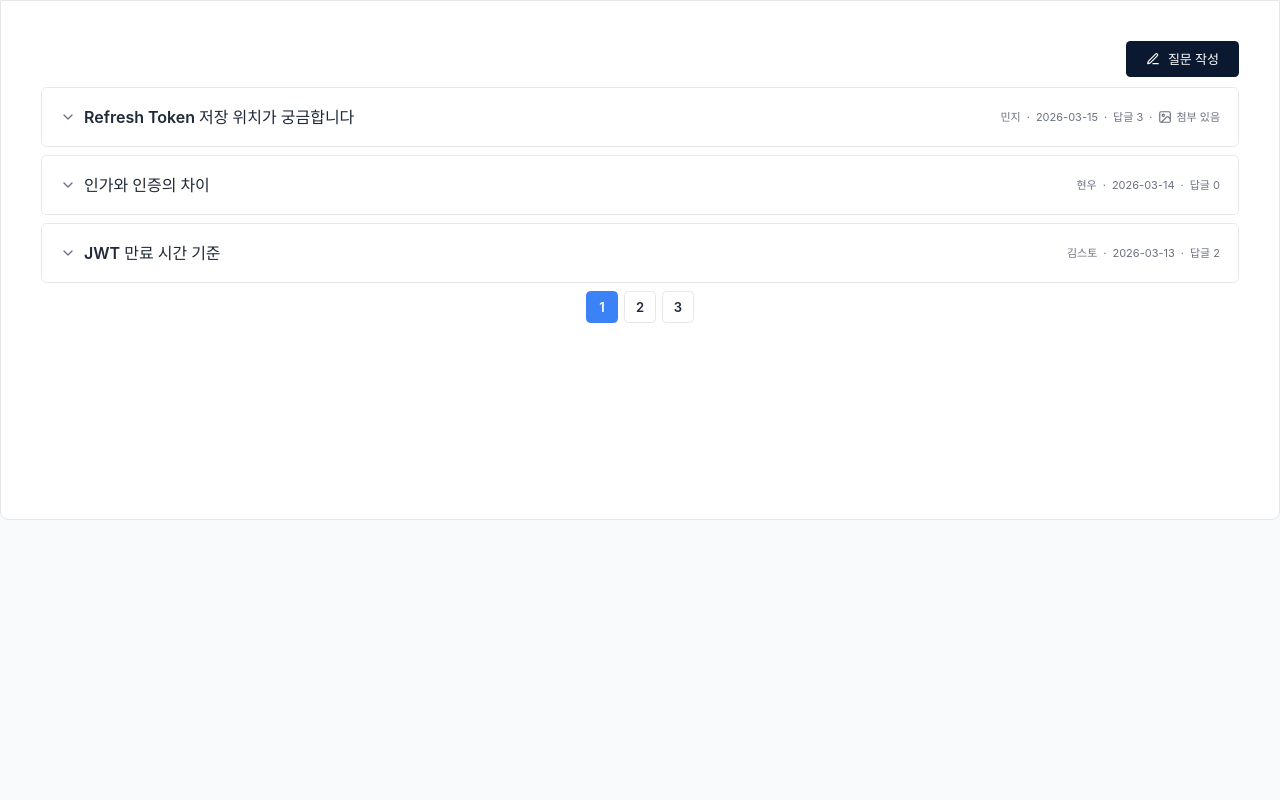
Scenario: QuestionsPage › 질문을 작성해 목록 최상단에 추가한다
The width and height of the screenshot is (1280, 800).
Step 1. Click the button "질문 작성" → (1182, 59), box x1=1126 y1=41 x2=1239 y2=77
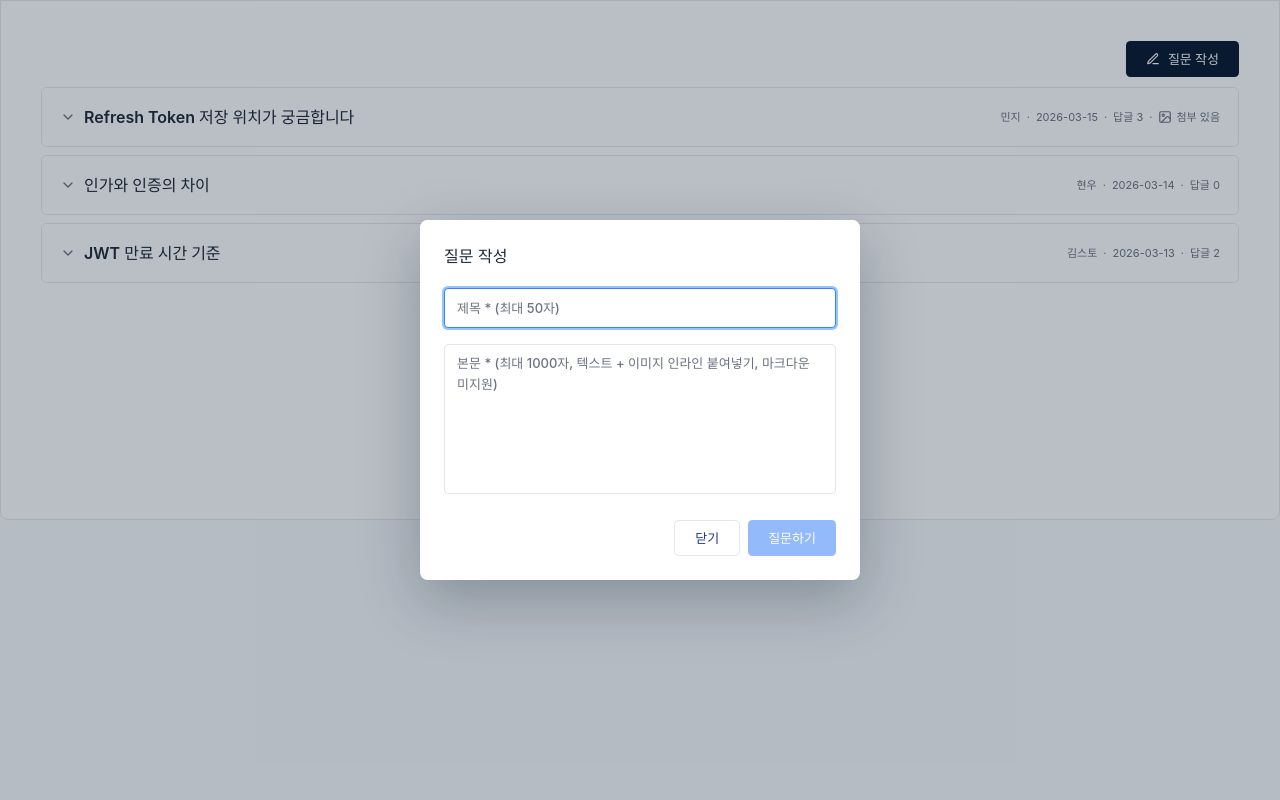
Check: the dialog "질문 작성" is shown, box x1=420 y1=220 x2=860 y2=580
Check: the button "질문하기" is disabled, box x1=748 y1=520 x2=836 y2=556
Step 2. Type "토큰 저장 정책이 궁금합니다" into the field named "질문 제목" → (640, 308), box x1=444 y1=288 x2=836 y2=328
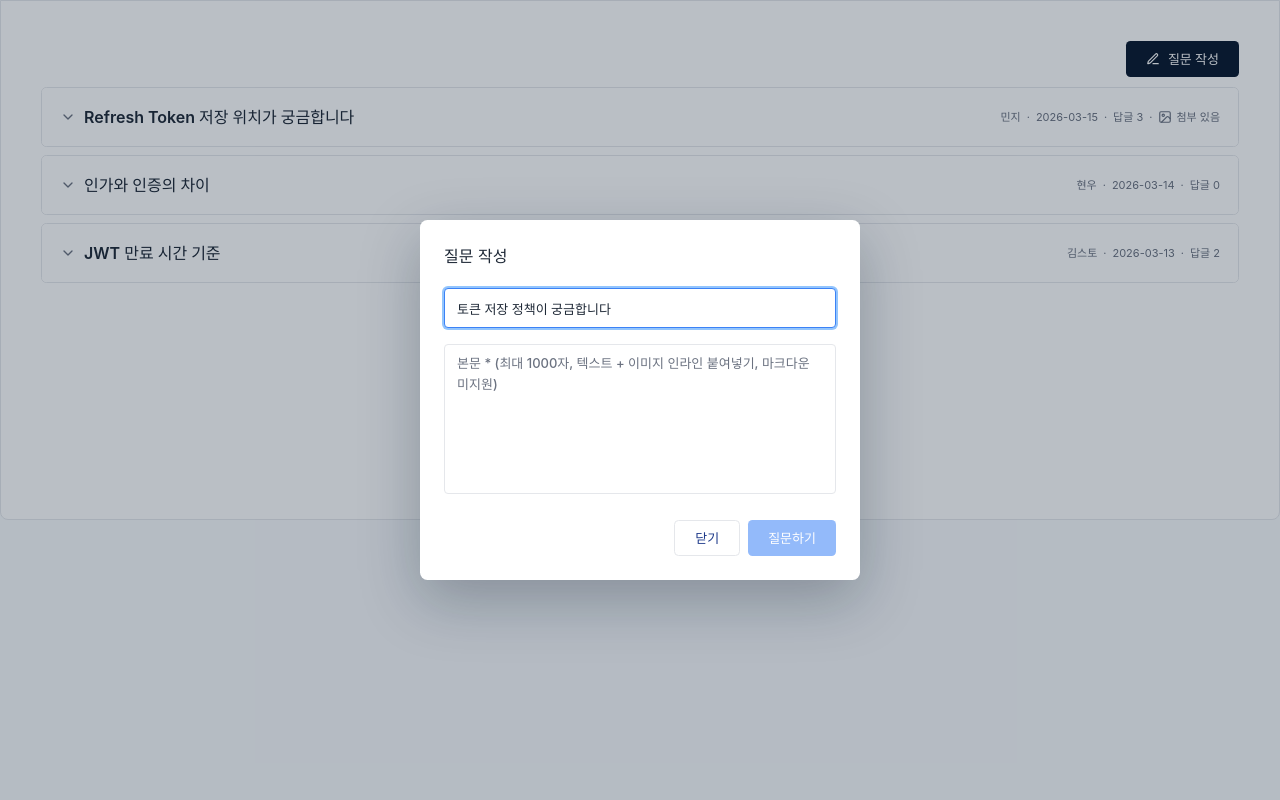
Step 3. Type "Refresh Token 저장 정책을 어떻게 정하면 좋을까요?" into the text box named "질문 본문" → (640, 419), box x1=444 y1=344 x2=836 y2=494
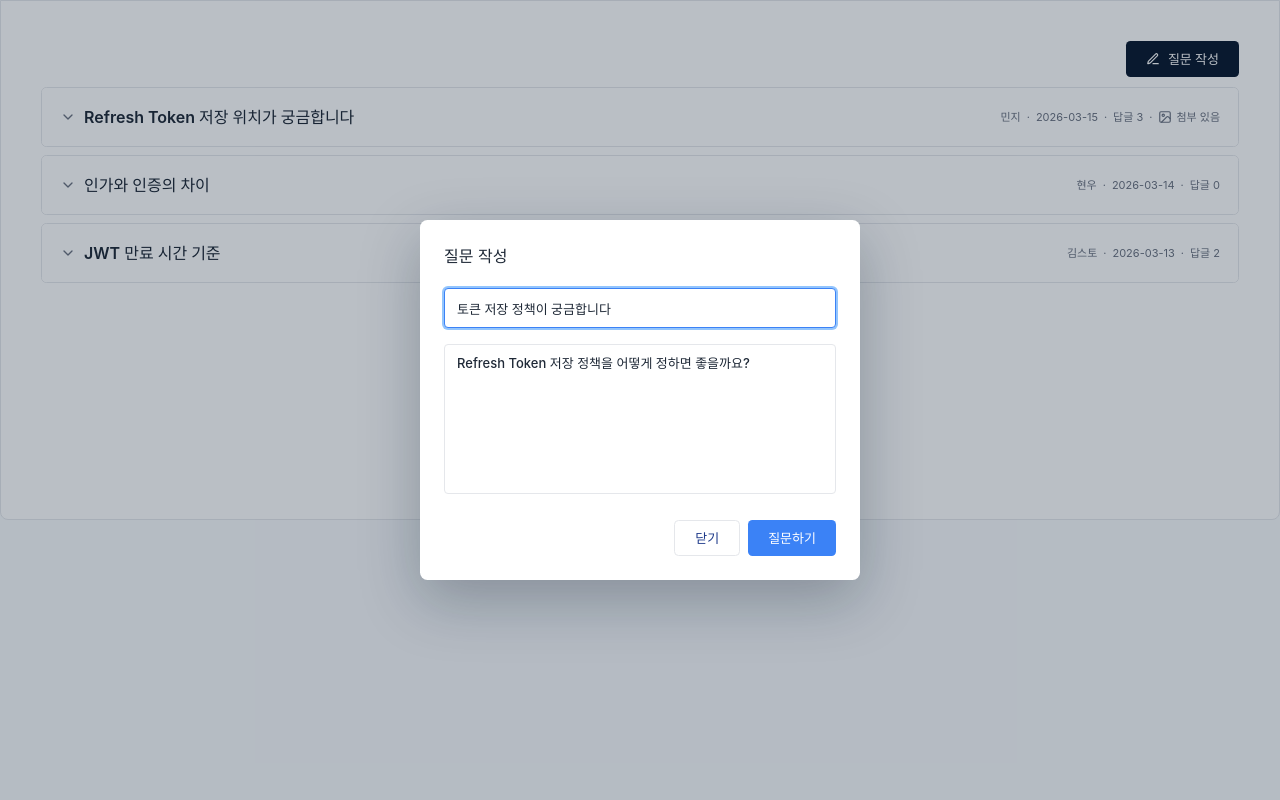
Check: the button "질문하기" is enabled
Step 4. Click the button "질문하기" → (792, 538), box x1=748 y1=520 x2=836 y2=556
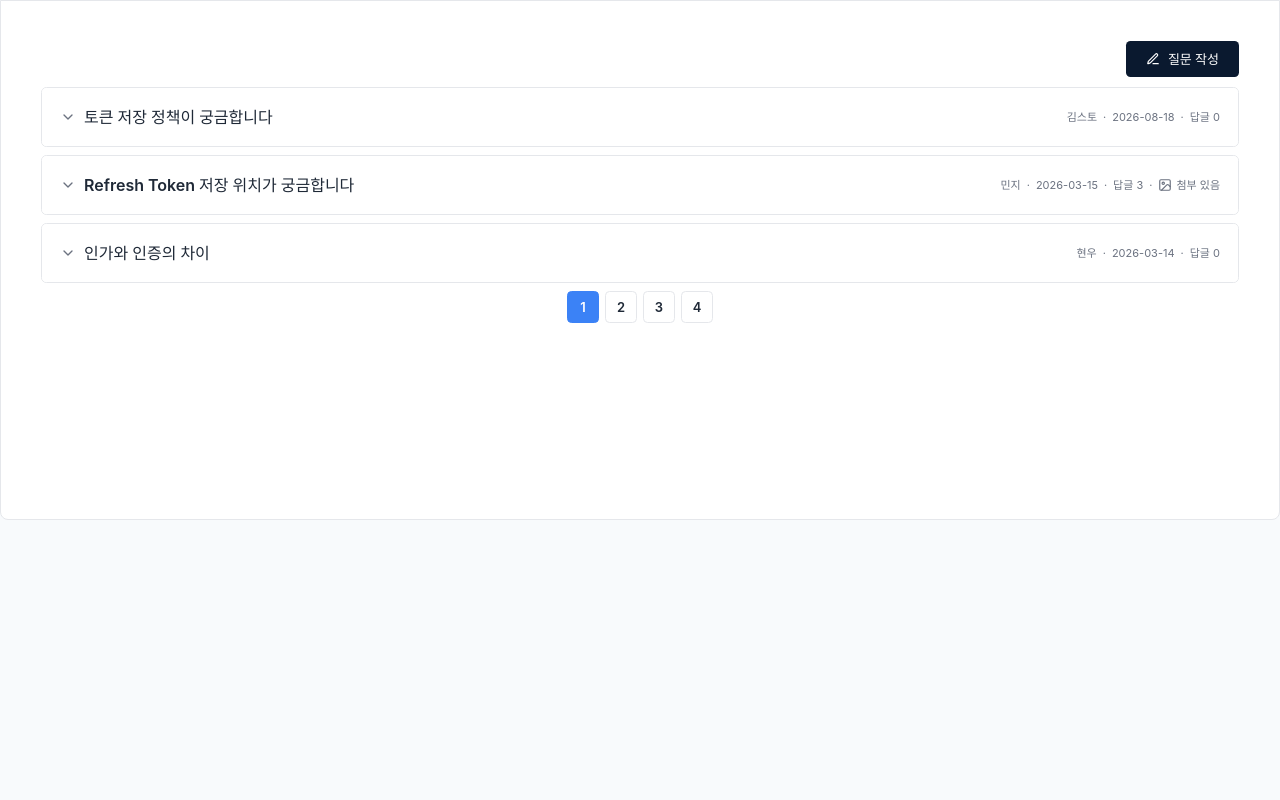
Check: the text "토큰 저장 정책이 궁금합니다" is shown, box x1=84 y1=105 x2=273 y2=129
